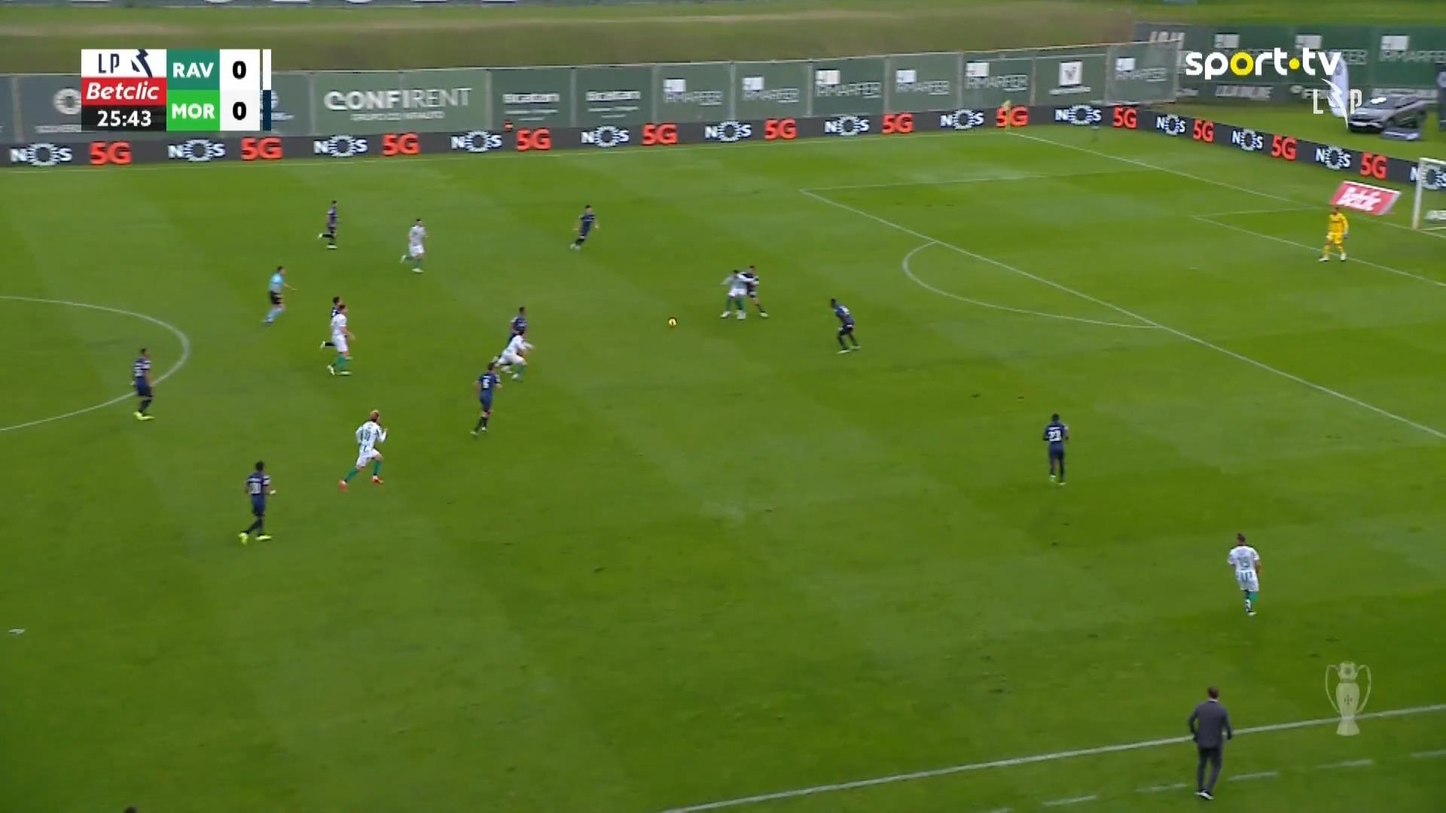ball: (667, 317, 676, 327)
goalkeeper: (1317, 205, 1349, 262)
player: (337, 409, 387, 491), (238, 460, 276, 544), (1226, 531, 1261, 616), (319, 301, 355, 376), (470, 360, 502, 436), (492, 327, 534, 380), (1042, 412, 1069, 485), (130, 346, 155, 420), (828, 297, 861, 353), (319, 294, 348, 351), (399, 217, 427, 273), (719, 267, 748, 319), (741, 263, 768, 318), (569, 203, 599, 251), (316, 199, 340, 249), (508, 306, 528, 341)
referee: (1187, 685, 1232, 799), (261, 264, 295, 324)
